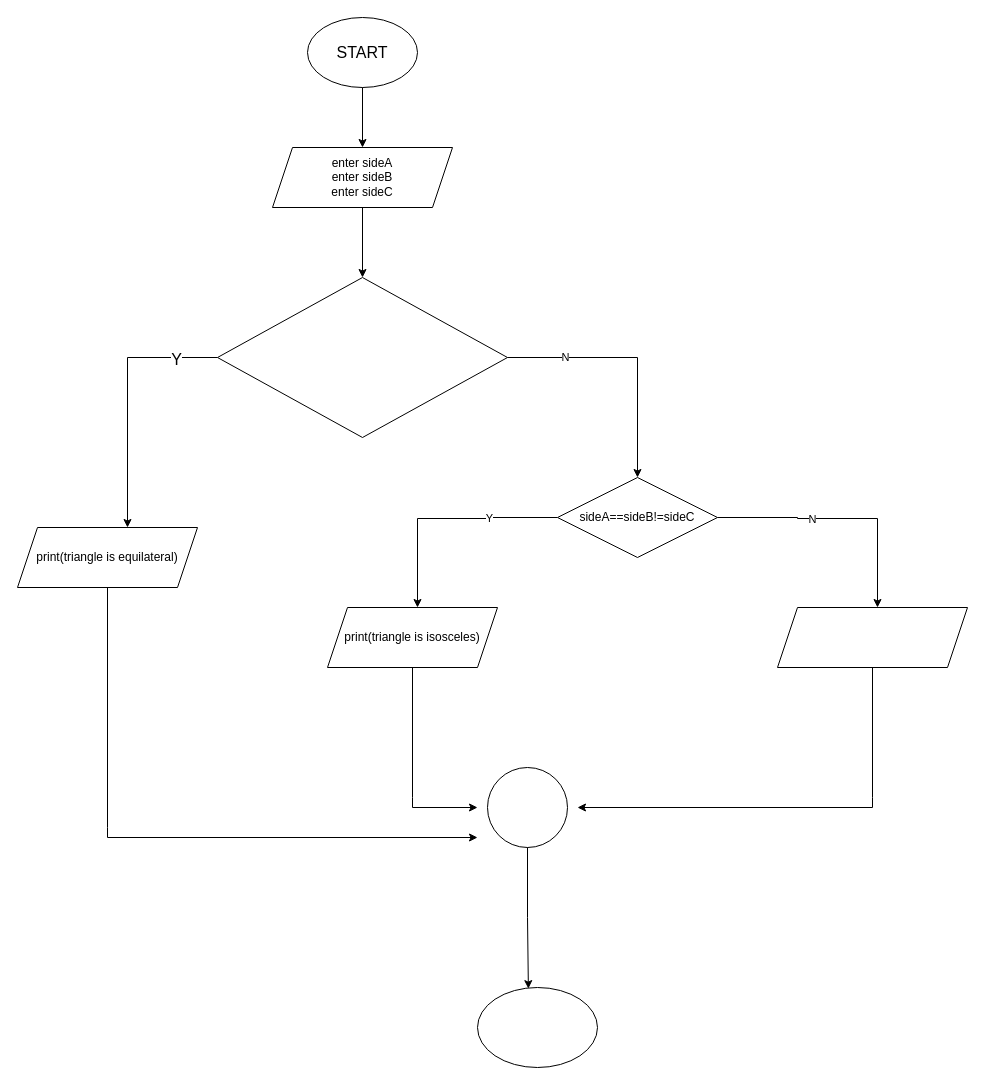
The diagram is 985 pixels wide and 1085 high, and some of its shapes have lost their labels. The shapes that lost their labels are listed below. From the top down, each one's centre as x and y in pixels, then its label:
point 362,357: if sideA==sideB==sideC
point 872,637: print(triangle is scalene)
point 537,1027: STOP
